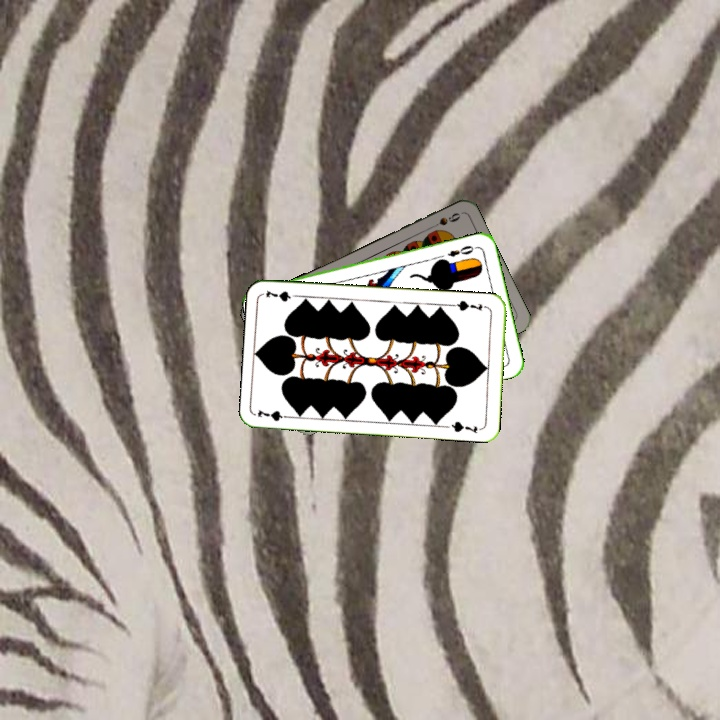EO: (444, 241, 480, 259)
G7: (254, 406, 295, 424), (450, 296, 485, 313)
S9: (433, 208, 463, 228)
